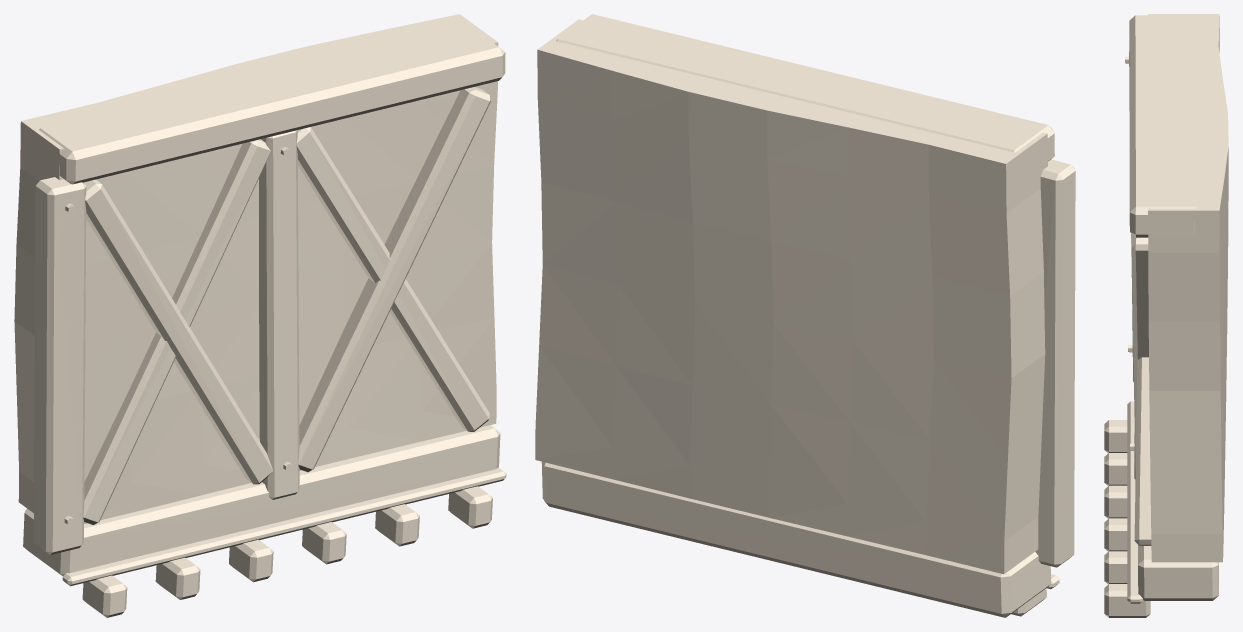
Rendered from SM_VK_Wall_Timber_X.fbx.
3 views of the same model, side by side, from view 1: azimuth 30°, elevation 25°; view 2: azimuth 150°, elevation 25°; view 3: azimuth 270°, elevation 25° (orthographic). The views are drawn at different scales.
Parts seen in each view (by area): view 1: SM_VK_Wall_Timber_X.001; view 2: SM_VK_Wall_Timber_X.001; view 3: SM_VK_Wall_Timber_X.001.
Part boxes in pixels (x1=…): SM_VK_Wall_Timber_X.001: x1=14, y1=14, x2=506, y2=617; SM_VK_Wall_Timber_X.001: x1=535, y1=14, x2=1075, y2=617; SM_VK_Wall_Timber_X.001: x1=1104, y1=14, x2=1228, y2=617.
Size of the model in its own units: 3.13 by 3.01 by 0.8024.
